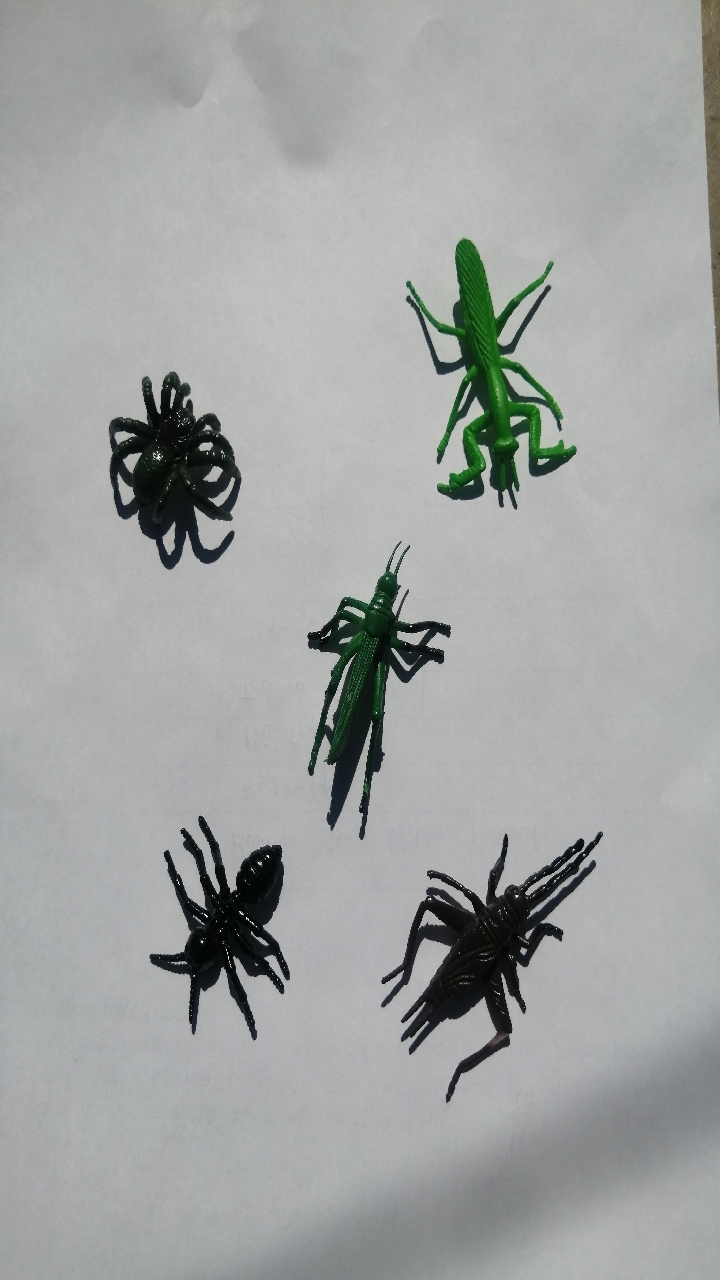intruso: (344, 812, 643, 1089), (372, 214, 609, 532), (254, 535, 446, 808), (112, 802, 315, 1054), (63, 355, 268, 577)
